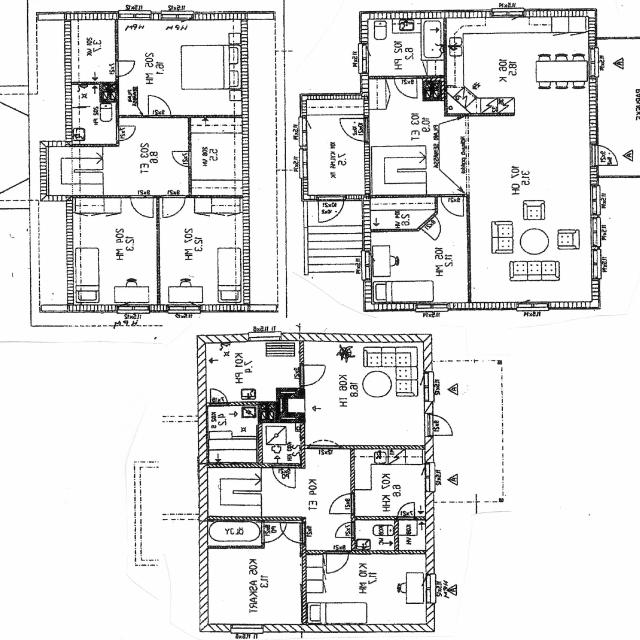door: (419, 214, 449, 241), (318, 195, 344, 224), (337, 118, 368, 141), (426, 414, 458, 435), (272, 463, 296, 489), (589, 145, 620, 165), (326, 550, 348, 575), (329, 493, 355, 514), (395, 74, 417, 98), (442, 195, 464, 219), (131, 195, 153, 219), (280, 523, 306, 543), (302, 365, 328, 385), (262, 522, 288, 542), (149, 95, 171, 118), (163, 196, 185, 218), (211, 387, 228, 407), (334, 522, 355, 538), (399, 501, 415, 521), (115, 61, 135, 76), (115, 126, 135, 140), (172, 152, 191, 166)
